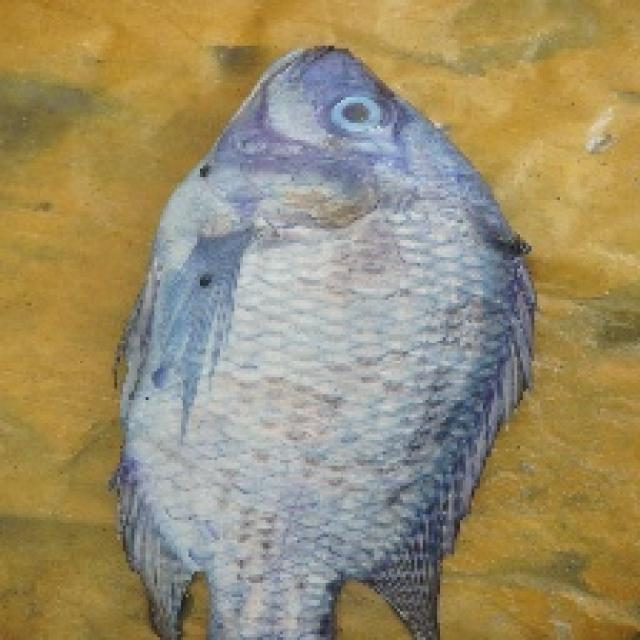Non-Fresh: (158, 153, 484, 613), (311, 82, 408, 147)
